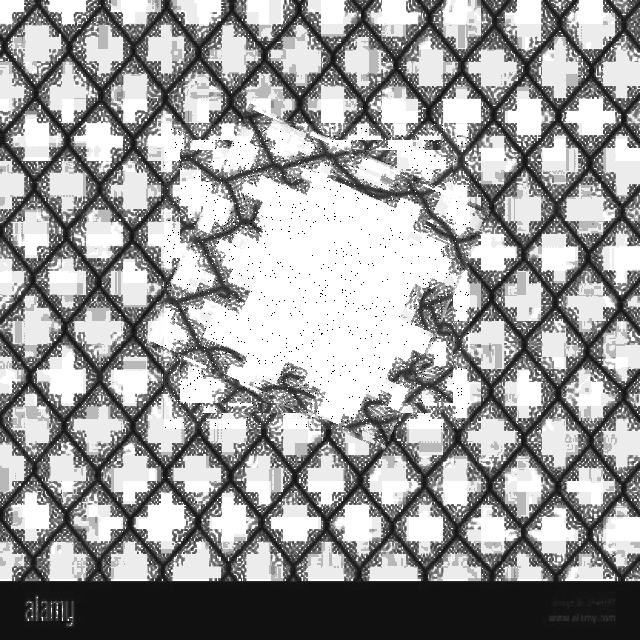anomaly-fence: (164, 124, 470, 429)
